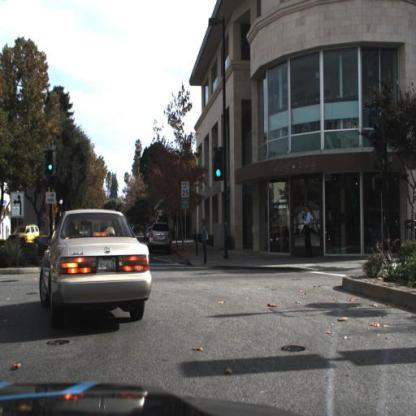car: (42, 209, 153, 322), (148, 220, 174, 255), (10, 223, 42, 249)
pedestrian: (302, 207, 314, 255), (200, 218, 209, 265)
trafficLight: (215, 151, 225, 180), (47, 151, 55, 175)
trafficLight-Green: (216, 153, 224, 177)
